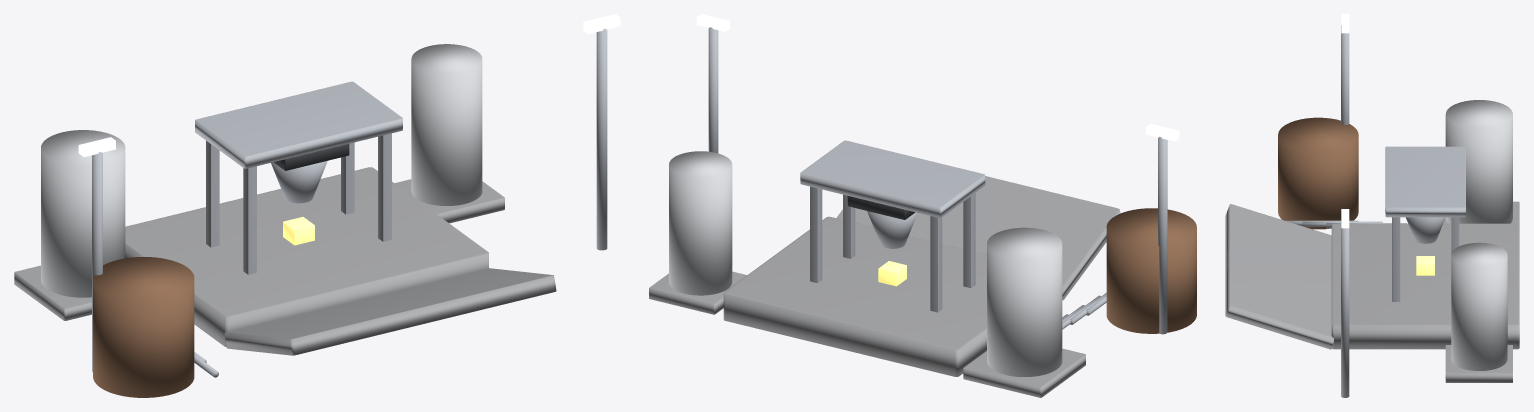
The model's file is node_teststand.glb.
3 renders of one model, left to right at view 1: azimuth 30°, elevation 25°; view 2: azimuth 150°, elevation 25°; view 3: azimuth 270°, elevation 25°, orthographic. The views are drawn at different scales.
Parts seen in each view (by area): view 1: Cube, Cylinder.002, Cube.001, Cylinder.001, Cylinder, Cube.006, Cylinder.009, Cube.009, Cube.010, Cube.002, Cube.004, Cone (+5 smaller); view 2: Cube, Cylinder, Cylinder.002, Cube.001, Cylinder.001, Cube.006, Cube.009, Cylinder.008, Cube.010, Cylinder.009, Cube.003, Cube.005 (+5 smaller); view 3: Cube, Cube.001, Cylinder.002, Cylinder.001, Cylinder, Cube.006, Cylinder.009, Cube.010, Cylinder.008, Cone, Cube.004, Cube.008 (+1 smaller).
Part boxes in pixels (x1,y1,x2,y2): Cube: (125,167,488,346); Cylinder.002: (93,257,194,397); Cube.001: (224,268,556,355); Cylinder.001: (411,44,482,205); Cylinder: (41,130,125,297); Cube.006: (195,81,402,168); Cylinder.009: (596,28,607,250); Cube.009: (14,265,91,320); Cube.010: (394,179,504,223); Cube.002: (243,166,256,274); Cube.004: (378,133,391,241); Cone: (271,161,327,203); Cube: (723,216,986,376); Cylinder: (987,227,1062,376); Cylinder.002: (1106,208,1196,333); Cube.001: (836,176,1120,300); Cylinder.001: (669,151,732,295); Cube.006: (800,140,985,217); Cube.009: (963,348,1085,397); Cylinder.008: (1158,136,1167,334); Cube.010: (649,271,746,314); Cylinder.009: (708,27,718,153); Cube.003: (930,216,942,312); Cube.005: (810,186,822,283); Cube: (1331,223,1519,349); Cube.001: (1225,204,1333,349); Cylinder.002: (1278,117,1358,229); Cylinder.001: (1451,242,1507,370); Cylinder: (1445,100,1512,223); Cube.006: (1385,146,1465,217); Cylinder.009: (1341,220,1349,397); Cube.010: (1445,345,1512,382); Cylinder.008: (1341,25,1349,124); Cone: (1406,217,1445,243); Cube.004: (1392,217,1400,301); Cube.008: (1416,256,1434,275).
Size of what is drawn, in the model's own units: 18.3 by 7.45 by 10.97.
